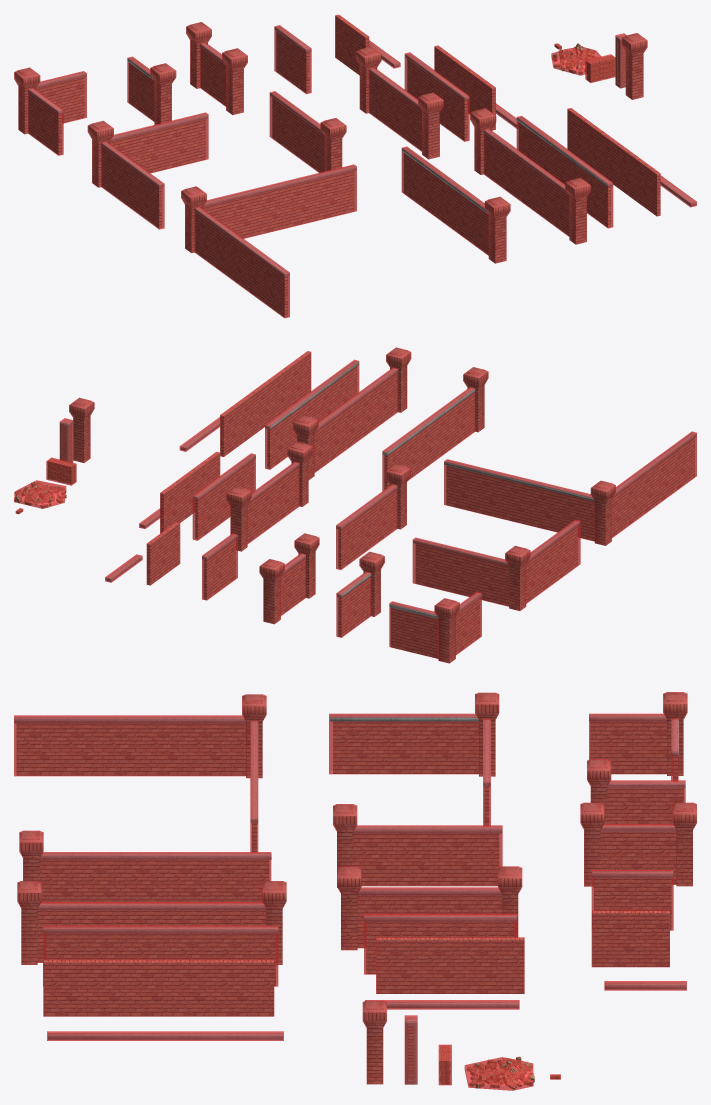
Rendered from brick_wall_with_proxy.obj.
3 views of the same model, one above another, from view 1: azimuth 30°, elevation 25°; view 2: azimuth 150°, elevation 25°; view 3: azimuth 270°, elevation 25° (orthographic). The views are drawn at different scales.
Parts seen in each view (by area): view 1: brick_wall_large_corner, brick_wall_medium_corner, brick_wall_large_2_columns, brick_wall_large_1_column, brick_wall_medium_2_columns, brick_wall_small_corner, brick_wall_large_without_top, brick_wall_medium_1_column, brick_wall_large, brick_wall_small_2_columns, brick_wall_medium, brick_wall_small_1_column (+7 smaller); view 2: brick_wall_large_corner, brick_wall_medium_corner, brick_wall_large_2_columns, brick_wall_large_1_column, brick_wall_small_corner, brick_wall_medium_2_columns, brick_wall_large_without_top, brick_wall_medium_1_column, brick_wall_large, brick_wall_small_2_columns, brick_wall_medium, brick_wall_small_1_column (+7 smaller); view 3: brick_wall_large_corner, brick_wall_large_without_top, brick_wall_large_1_column, brick_wall_medium_corner, brick_wall_medium_1_column, brick_wall_large_2_columns, brick_wall_medium_without_top, brick_wall_large, brick_wall_medium_2_columns, brick_wall_small_2_columns, brick_wall_small_corner, brick_wall_small_without_top (+9 smaller).
Part boxes in pixels (box(x1,y1,x2,y2)): brick_wall_large_corner: box(181, 164, 356, 318); brick_wall_medium_corner: box(87, 112, 208, 229); brick_wall_large_2_columns: box(470, 108, 591, 244); brick_wall_large_1_column: box(401, 146, 510, 263); brick_wall_medium_2_columns: box(355, 47, 443, 159); brick_wall_small_corner: box(14, 67, 86, 155); brick_wall_large_without_top: box(567, 108, 660, 216); brick_wall_medium_1_column: box(269, 91, 346, 172); brick_wall_large: box(516, 115, 613, 228); brick_wall_small_2_columns: box(186, 22, 247, 114); brick_wall_medium: box(404, 52, 469, 141); brick_wall_small_1_column: box(127, 56, 176, 124); brick_wall_large_corner: box(444, 431, 696, 545); brick_wall_medium_corner: box(412, 519, 580, 610); brick_wall_large_2_columns: box(293, 347, 411, 480); brick_wall_large_1_column: box(382, 367, 488, 491); brick_wall_small_corner: box(389, 591, 481, 663); brick_wall_medium_2_columns: box(226, 441, 312, 551); brick_wall_large_without_top: box(220, 351, 311, 456); brick_wall_medium_1_column: box(336, 464, 410, 569); brick_wall_large: box(265, 359, 359, 469); brick_wall_small_2_columns: box(259, 533, 319, 624); brick_wall_medium: box(192, 453, 255, 540); brick_wall_small_1_column: box(336, 551, 384, 637); brick_wall_large_corner: box(14, 694, 266, 852); brick_wall_large_without_top: box(43, 959, 274, 1016); brick_wall_large_1_column: box(19, 830, 271, 902); brick_wall_medium_corner: box(329, 692, 499, 825); brick_wall_medium_1_column: box(333, 804, 502, 887); brick_wall_large_2_columns: box(17, 881, 286, 964); brick_wall_medium_without_top: box(376, 937, 524, 993); brick_wall_large: box(43, 925, 278, 986); brick_wall_medium_2_columns: box(337, 866, 522, 950); brick_wall_small_2_columns: box(580, 802, 696, 886); brick_wall_small_corner: box(589, 692, 687, 780); brick_wall_small_without_top: box(591, 910, 669, 967).
Bounding box in the file's own units: 2752 × 311 × 2456.
